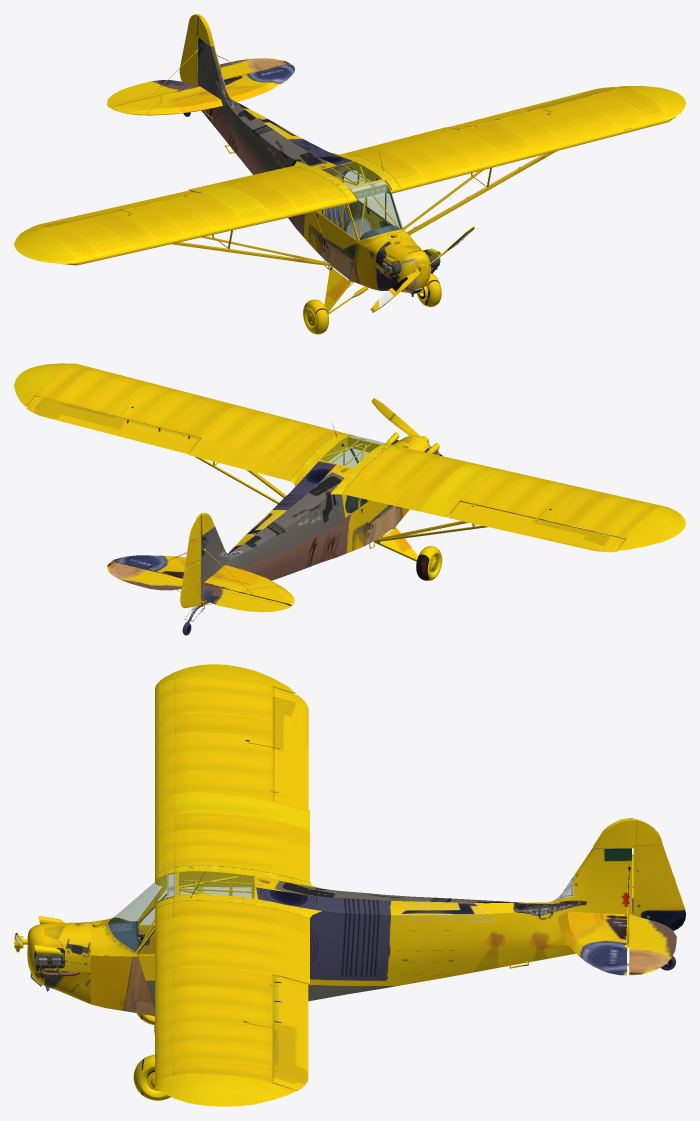
Rendered from default-metal.gltf.
The picture shows the model from 3 angles, top to bottom: view 1: azimuth 30°, elevation 25°; view 2: azimuth 150°, elevation 25°; view 3: azimuth 270°, elevation 25°; orthographic projection. The views are drawn at different scales.
Parts seen in each view (by area): view 1: Exterior; view 2: Exterior; view 3: Exterior.
Boxes of the visible parts, bbox=[...] form: Exterior: bbox=[14, 14, 685, 334]; Exterior: bbox=[14, 363, 685, 635]; Exterior: bbox=[14, 664, 685, 1106].
Size of the model in its own units: 10.65 by 2.73 by 6.86.
Materials: 73 (61 with a texture image).
